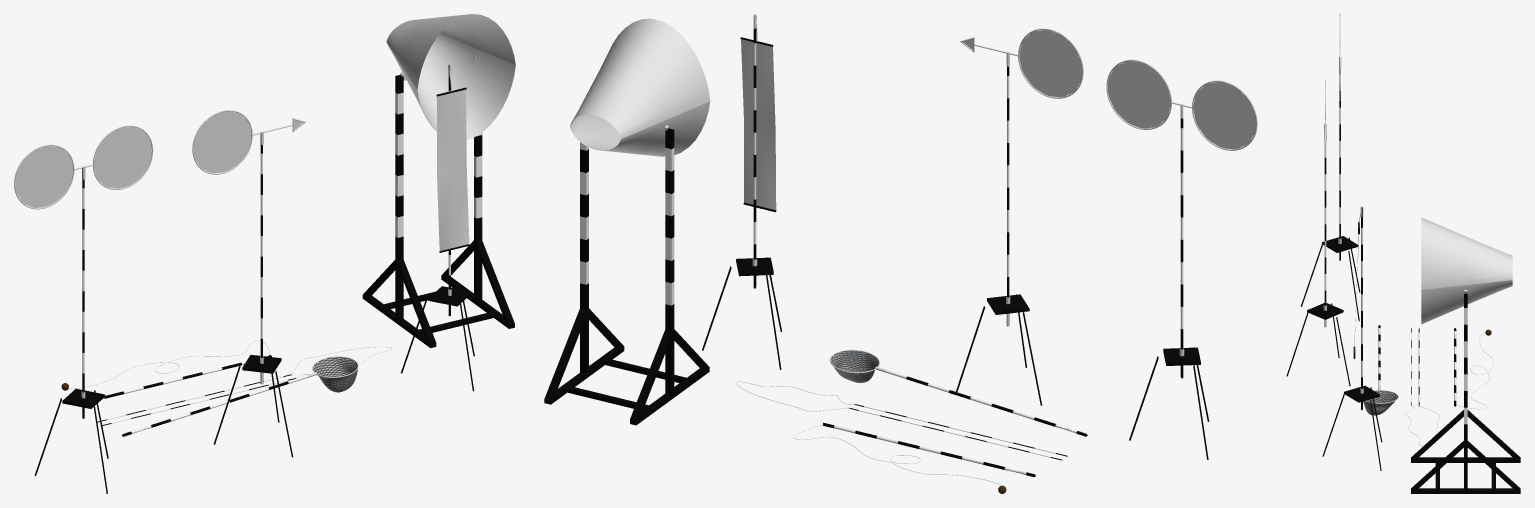
The model's file is rama_ground.glb.
The picture shows the model from 3 angles, left to right: view 1: azimuth 30°, elevation 25°; view 2: azimuth 150°, elevation 25°; view 3: azimuth 270°, elevation 25°; orthographic projection. The views are drawn at different scales.
Visible parts, largest first — view 1: metal.002, noir.002, metal.004, Objet_70, metal, noir.004, noir.003, noir.001, net, white.002; view 2: metal.002, noir.002, metal.004, Objet_70, metal, noir.001, noir.004, white.002, noir.003, net; view 3: metal.002, noir.002, noir.001, noir.003, noir.004, net, white.002.
Boxes of the visible parts, x1=… form: metal.002: x1=386, y1=14, x2=515, y2=139; noir.002: x1=362, y1=74, x2=514, y2=348; metal.004: x1=14, y1=125, x2=153, y2=398; Objet_70: x1=436, y1=89, x2=469, y2=250; metal: x1=192, y1=110, x2=305, y2=384; noir.004: x1=34, y1=168, x2=108, y2=493; noir.003: x1=213, y1=145, x2=292, y2=457; noir.001: x1=401, y1=65, x2=474, y2=391; net: x1=313, y1=357, x2=357, y2=392; white.002: x1=395, y1=92, x2=482, y2=237; metal.002: x1=570, y1=18, x2=710, y2=156; noir.002: x1=544, y1=128, x2=709, y2=425; metal.004: x1=1106, y1=59, x2=1257, y2=356; Objet_70: x1=741, y1=39, x2=776, y2=210; metal: x1=960, y1=28, x2=1083, y2=326; noir.001: x1=702, y1=16, x2=781, y2=369; noir.004: x1=1129, y1=118, x2=1209, y2=459; white.002: x1=580, y1=142, x2=674, y2=305; noir.003: x1=956, y1=66, x2=1042, y2=405; net: x1=830, y1=350, x2=878, y2=382; metal.002: x1=1421, y1=217, x2=1512, y2=324; noir.002: x1=1411, y1=293, x2=1520, y2=493; noir.001: x1=1322, y1=207, x2=1382, y2=470; noir.003: x1=1286, y1=134, x2=1350, y2=386; noir.004: x1=1300, y1=67, x2=1360, y2=321; net: x1=1363, y1=390, x2=1397, y2=415; white.002: x1=1464, y1=308, x2=1467, y2=424.
Size of what is drawn, in the model's own units: 2.81 by 1.65 by 1.28.
25 materials, 1 textured.
